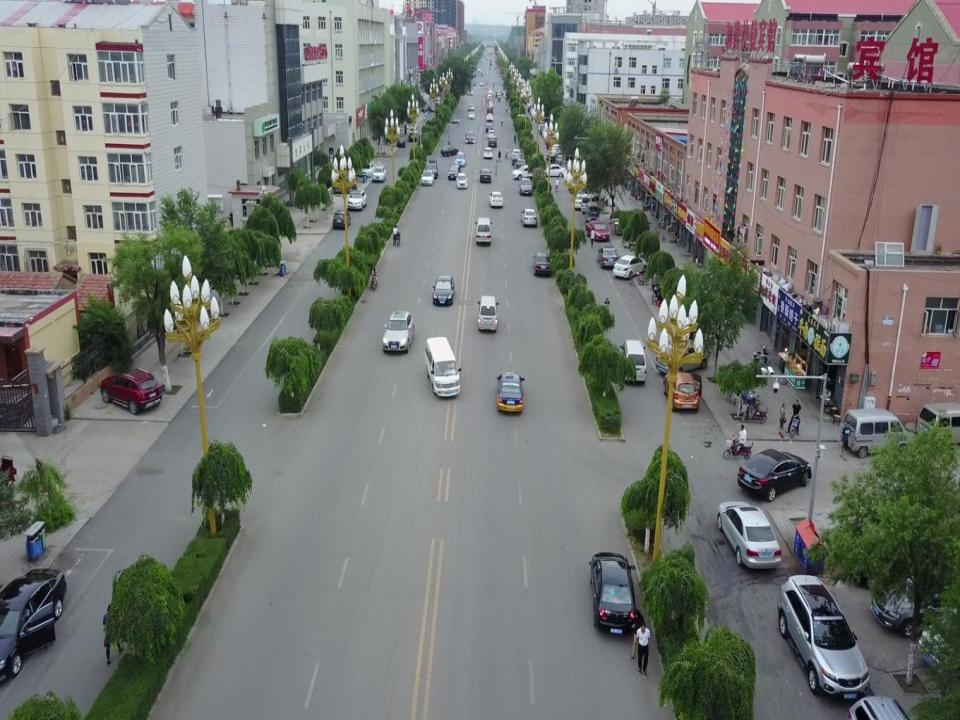car: (776, 572, 868, 698), (0, 568, 67, 690), (872, 573, 960, 639), (718, 501, 782, 569), (737, 448, 811, 502), (588, 550, 635, 635), (101, 365, 162, 414), (656, 341, 708, 377), (664, 371, 702, 411), (382, 312, 415, 352), (496, 372, 524, 411), (613, 255, 648, 280), (432, 275, 455, 305), (585, 219, 609, 242), (324, 178, 356, 194), (595, 246, 618, 268), (347, 187, 368, 211), (533, 253, 551, 275), (332, 209, 352, 228), (512, 165, 538, 179), (519, 209, 538, 227), (539, 165, 567, 177), (573, 193, 592, 210), (519, 177, 533, 196), (426, 157, 439, 177), (489, 192, 504, 208), (372, 166, 386, 182), (448, 165, 462, 180), (360, 162, 373, 177), (454, 150, 466, 166), (441, 145, 458, 156), (479, 168, 492, 182), (421, 170, 434, 184), (456, 173, 468, 188), (514, 158, 526, 170), (465, 131, 475, 144), (483, 147, 493, 159), (396, 136, 405, 148), (512, 149, 521, 160), (409, 131, 418, 142), (409, 127, 418, 137), (468, 111, 475, 119), (452, 115, 458, 122), (469, 104, 474, 110)
van: (844, 410, 909, 458), (424, 336, 462, 397), (916, 403, 960, 451), (618, 340, 646, 385), (477, 296, 499, 332), (475, 217, 492, 245), (581, 194, 603, 214), (585, 200, 599, 224)
